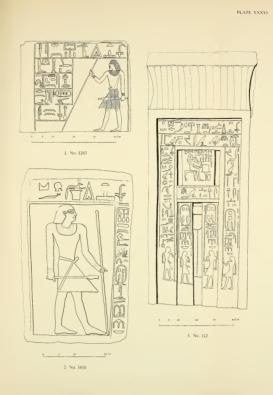circle: (223, 208, 237, 231), (204, 203, 217, 227), (114, 264, 128, 286), (179, 204, 192, 227)
